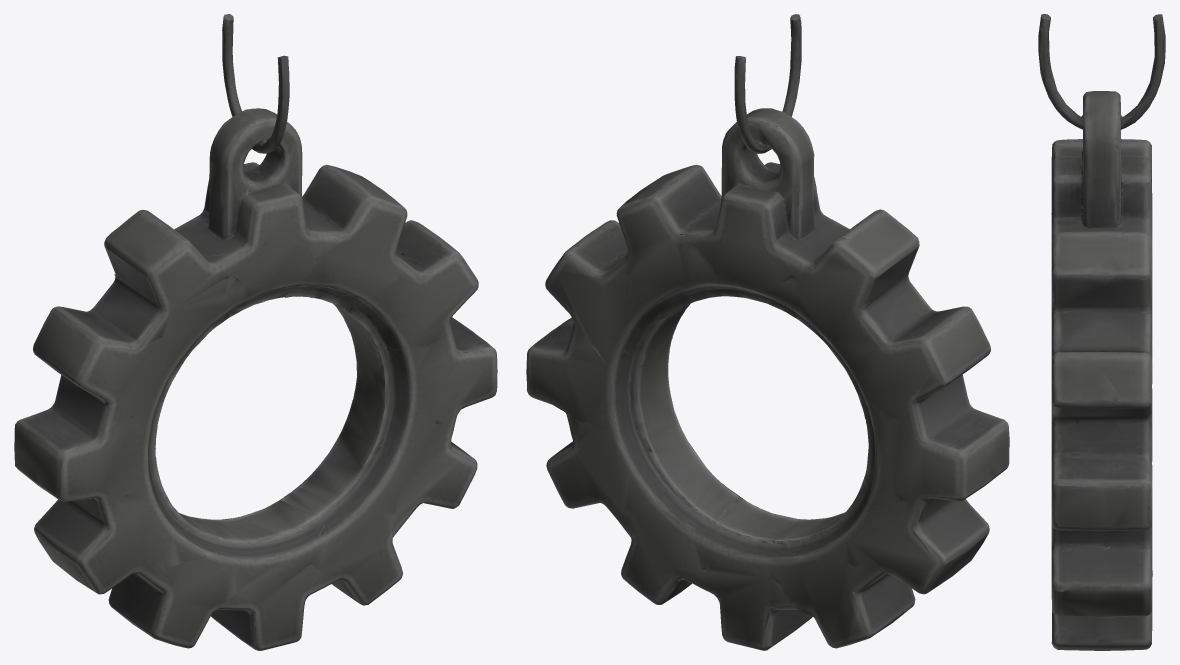
File: piece_charm_gear.glb
3 views of the same model, side by side, from view 1: azimuth 30°, elevation 25°; view 2: azimuth 150°, elevation 25°; view 3: azimuth 270°, elevation 25° (orthographic). The views are drawn at different scales.
Visible parts, largest first — view 1: trait_charm_gear; view 2: trait_charm_gear; view 3: trait_charm_gear.
Boxes of the visible parts, left/top/right/bottom form: trait_charm_gear: left=14, top=14, right=497, bottom=650; trait_charm_gear: left=526, top=14, right=1009, bottom=650; trait_charm_gear: left=1038, top=14, right=1165, bottom=650.
Size of the model in its own units: 0.1326 by 0.1722 by 0.0323.
Materials: 1 (1 with a texture image).
